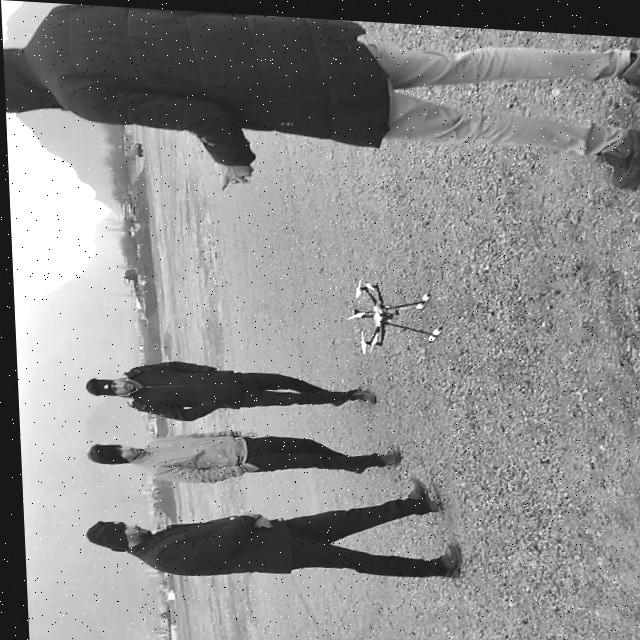drone: (340, 273, 441, 354)
